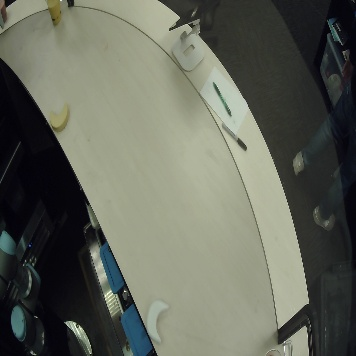full_cup: (45, 1, 64, 26), (1, 1, 9, 22)
puck: (145, 299, 170, 343), (48, 103, 70, 132)
